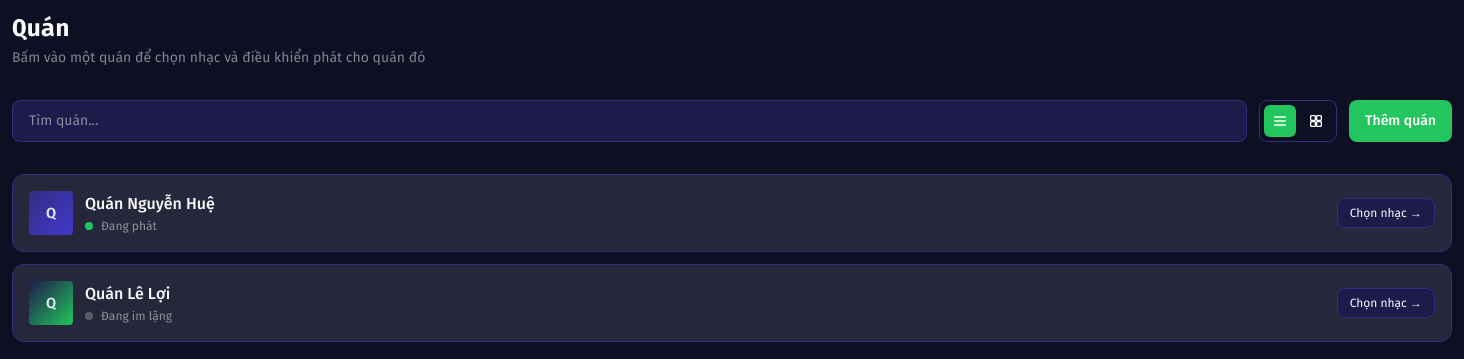
Test case: StoresPage › shows a distinct message when the filter matches nothing
Expected: the text "Quán Nguyễn Huệ" is shown, [85,192,215,216]
In the search field labelled "Tìm quán": x=630, y=121 [12,100,1247,142], type "không tồn tại"
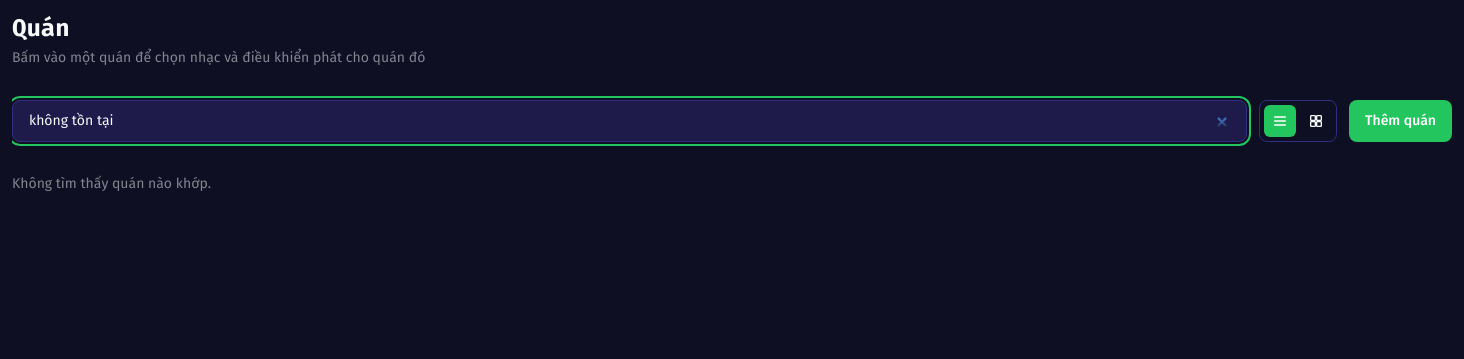
Expected: the text "Không tìm thấy quán nào khớp." is shown, [12,175,211,192]
